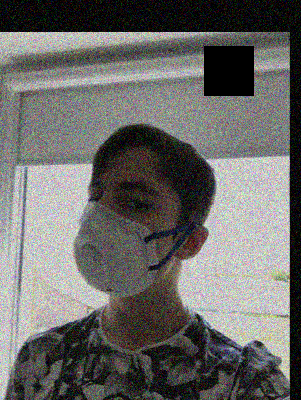with_mask: (72, 170, 166, 298)
